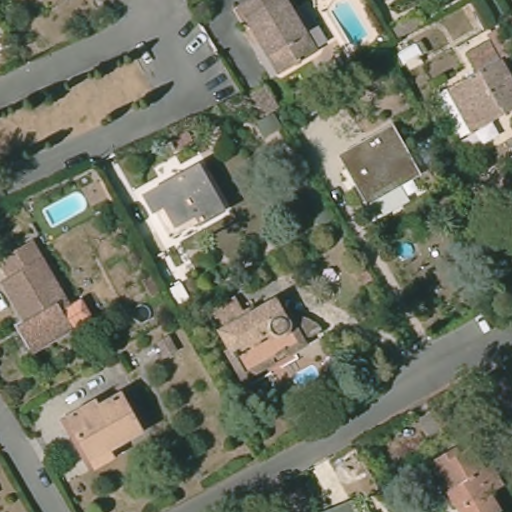pool: (330, 1, 371, 49), (41, 189, 90, 229), (283, 359, 323, 391), (392, 237, 418, 264)
